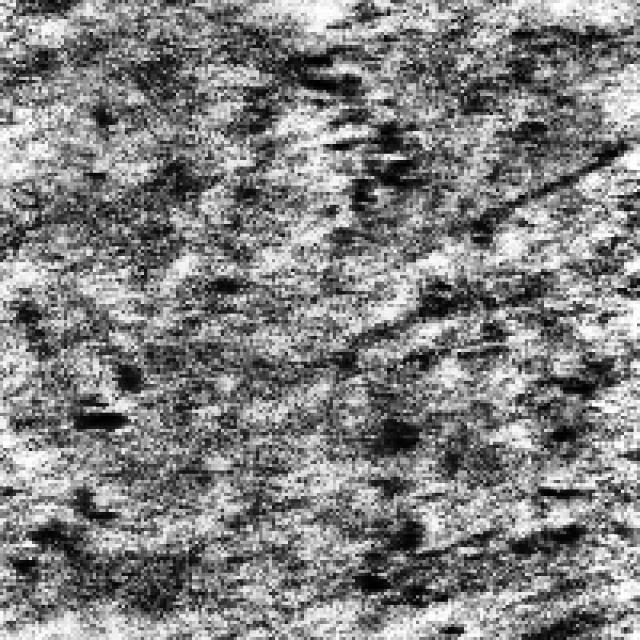Crazing: (355, 406, 570, 589), (291, 38, 413, 240)
